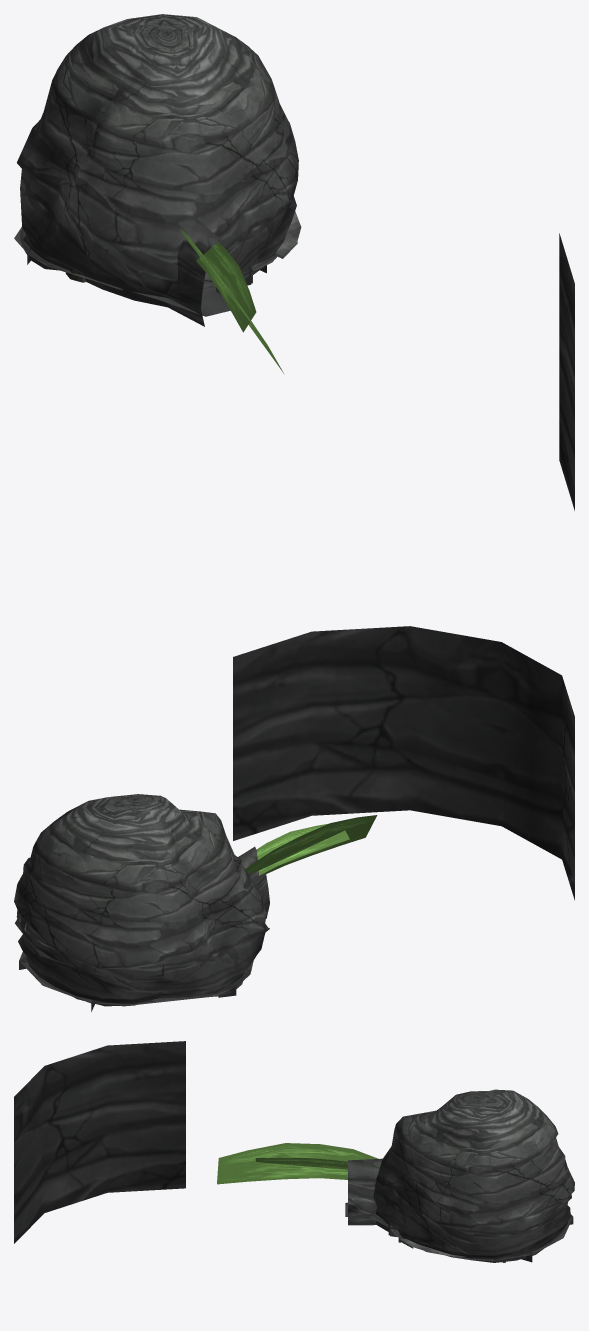
File: env_dath_talzindaka_cave_pre.glb
3 renders of one model, top to bottom at view 1: azimuth 30°, elevation 25°; view 2: azimuth 150°, elevation 25°; view 3: azimuth 270°, elevation 25°, orthographic. The views are drawn at different scales.
Parts seen in each view (by area): view 1: dath_full_wall_02a_mesh, skybox_half_mesh, vfx_mother_daka_power, dath_full_wall_02b_mesh; view 2: skybox_half_mesh, dath_full_wall_02a_mesh, vfx_mother_daka_power (×2), dath_full_wall_02b_mesh; view 3: dath_full_wall_02a_mesh, skybox_half_mesh, vfx_mother_daka_power (×2), dath_full_wall_02b_mesh.
Part boxes in pixels (box(x1,y1,x2,y2)): dath_full_wall_02a_mesh: box(17, 14, 298, 326); skybox_half_mesh: box(559, 233, 574, 510); vfx_mother_daka_power: box(196, 242, 256, 332); dath_full_wall_02b_mesh: box(14, 227, 277, 316); skybox_half_mesh: box(233, 626, 574, 900); dath_full_wall_02a_mesh: box(14, 794, 269, 1006); vfx_mother_daka_power (×2): box(245, 815, 377, 875); dath_full_wall_02b_mesh: box(19, 910, 267, 1011); dath_full_wall_02a_mesh: box(348, 1089, 574, 1262); skybox_half_mesh: box(14, 1041, 185, 1243); vfx_mother_daka_power (×2): box(217, 1143, 379, 1184); dath_full_wall_02b_mesh: box(345, 1202, 573, 1262).
Size of the model in its own units: 31.28 by 20.02 by 57.72.
Materials: 11 (11 with a texture image).
